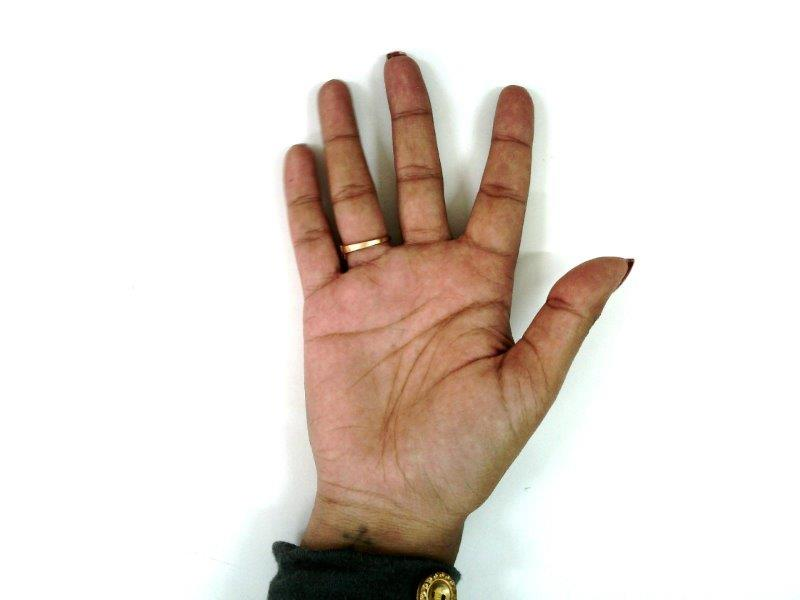hand: (284, 50, 633, 512)
